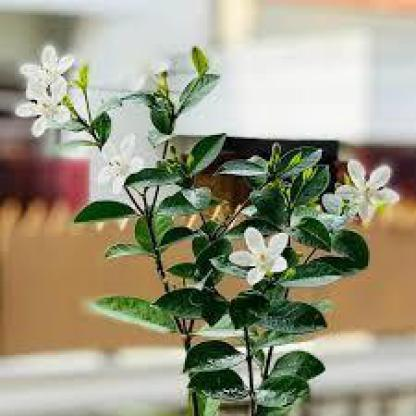Melati: (12, 31, 97, 153), (199, 217, 306, 293), (306, 140, 413, 214), (93, 119, 160, 225)
